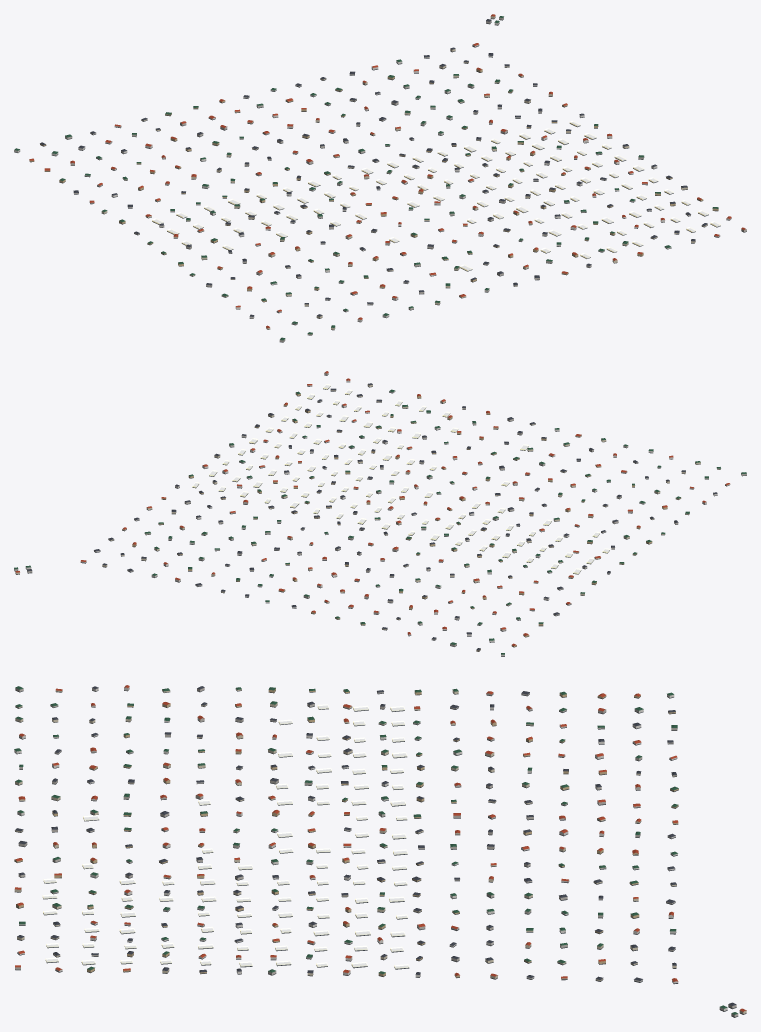
The model's file is buildings_T_W02_S03.glb.
3 renders of one model, top to bottom at view 1: azimuth 30°, elevation 25°; view 2: azimuth 150°, elevation 25°; view 3: azimuth 270°, elevation 25°, orthographic. The views are drawn at different scales.
Parts seen in each view (by area): view 1: T_W02_S03_slope_seating_foundations, T_W02_S03_roofs_agri_greenhouse_arch, T_W02_S03_roofs_roof_slate_French_villa_hip, T_W02_S03_roofs_roof_pine_green_hip, T_W02_S03_roofs_roof_terracotta_gable, T_W02_S03_walls_wall_french_ochre_villa, T_W02_S03_walls_wall_pastel_sand_gray, T_W02_S03_walls_wall_modern_warm_white, T_W02_S03_walls_wall_dalat_cream_stucco; view 2: T_W02_S03_slope_seating_foundations, T_W02_S03_roofs_agri_greenhouse_arch, T_W02_S03_roofs_roof_slate_French_villa_hip, T_W02_S03_roofs_roof_pine_green_hip, T_W02_S03_roofs_roof_terracotta_gable, T_W02_S03_walls_wall_pastel_sand_gray, T_W02_S03_walls_wall_modern_warm_white, T_W02_S03_walls_wall_french_ochre_villa, T_W02_S03_walls_wall_dalat_cream_stucco; view 3: T_W02_S03_slope_seating_foundations, T_W02_S03_roofs_agri_greenhouse_arch, T_W02_S03_roofs_roof_slate_French_villa_hip, T_W02_S03_roofs_roof_pine_green_hip, T_W02_S03_roofs_roof_terracotta_gable, T_W02_S03_walls_wall_french_ochre_villa, T_W02_S03_walls_wall_pastel_sand_gray, T_W02_S03_walls_wall_modern_warm_white, T_W02_S03_walls_wall_dalat_cream_stucco.
Part boxes in pixels (x1,y1,x2,y2): T_W02_S03_slope_seating_foundations: (14,17,746,342); T_W02_S03_roofs_agri_greenhouse_arch: (152,120,720,271); T_W02_S03_roofs_roof_slate_French_villa_hip: (40,19,707,316); T_W02_S03_roofs_roof_pine_green_hip: (14,16,718,340); T_W02_S03_roofs_roof_terracotta_gable: (29,14,745,328); T_W02_S03_walls_wall_french_ochre_villa: (29,69,718,301); T_W02_S03_walls_wall_pastel_sand_gray: (65,17,746,342); T_W02_S03_walls_wall_modern_warm_white: (14,22,731,321); T_W02_S03_walls_wall_dalat_cream_stucco: (101,15,707,335); T_W02_S03_slope_seating_foundations: (14,374,746,656); T_W02_S03_roofs_agri_greenhouse_arch: (192,384,609,573); T_W02_S03_roofs_roof_slate_French_villa_hip: (27,383,717,650); T_W02_S03_roofs_roof_pine_green_hip: (14,389,746,654); T_W02_S03_roofs_roof_terracotta_gable: (15,371,729,645); T_W02_S03_walls_wall_pastel_sand_gray: (14,372,746,646); T_W02_S03_walls_wall_modern_warm_white: (25,380,717,656); T_W02_S03_walls_wall_french_ochre_villa: (132,393,681,651); T_W02_S03_walls_wall_dalat_cream_stucco: (15,384,730,629); T_W02_S03_slope_seating_foundations: (14,689,746,1017); T_W02_S03_roofs_agri_greenhouse_arch: (42,704,409,968); T_W02_S03_roofs_roof_slate_French_villa_hip: (15,686,736,1005); T_W02_S03_roofs_roof_pine_green_hip: (14,686,737,1014); T_W02_S03_roofs_roof_terracotta_gable: (15,685,746,1011); T_W02_S03_walls_wall_french_ochre_villa: (14,688,678,977); T_W02_S03_walls_wall_pastel_sand_gray: (15,687,738,1016); T_W02_S03_walls_wall_modern_warm_white: (14,687,727,1010); T_W02_S03_walls_wall_dalat_cream_stucco: (14,688,746,1014).
Bounding box in the file's own units: 1856 × 69.32 × 1860.
